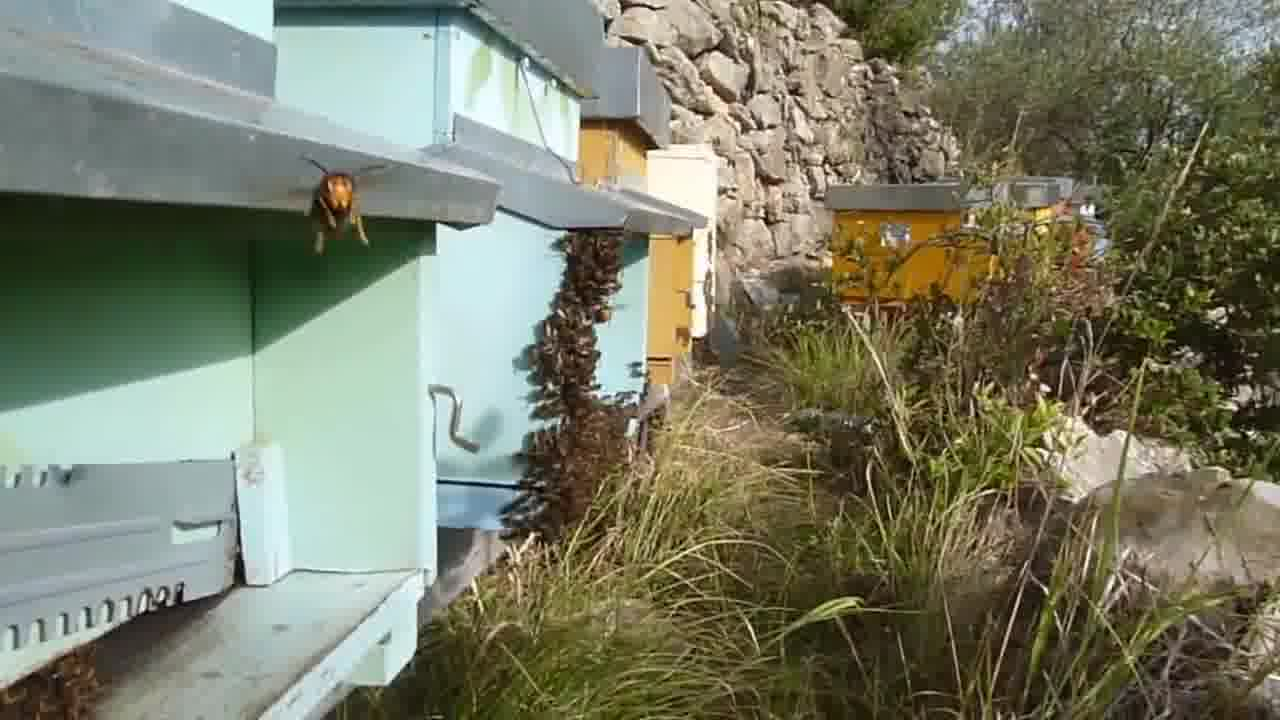bee: (513, 414, 606, 517), (544, 229, 621, 327), (525, 324, 613, 409), (50, 653, 110, 706)
hornet: (301, 163, 377, 257), (1186, 312, 1257, 392)
